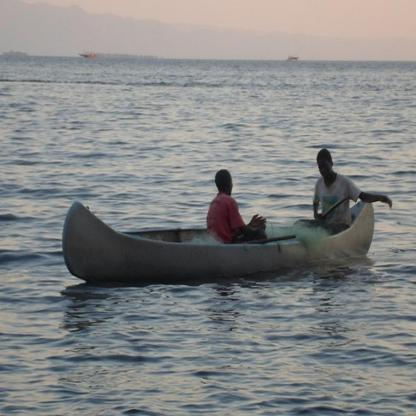face: (319, 160, 332, 178), (227, 179, 233, 196)
